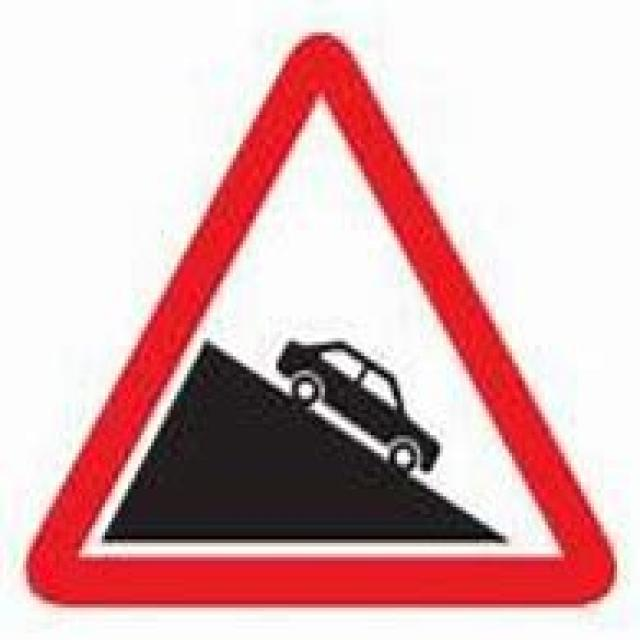steep descent: (26, 30, 615, 611)
